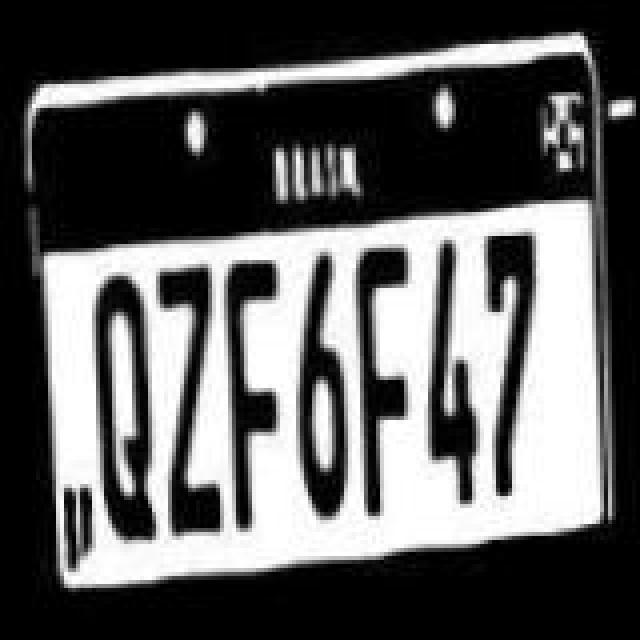4: (418, 230, 478, 510)
6: (290, 248, 350, 524)
7: (480, 224, 544, 496)
F: (216, 240, 288, 536), (350, 240, 418, 520)
Q: (86, 272, 154, 540)
Z: (154, 258, 222, 538)
